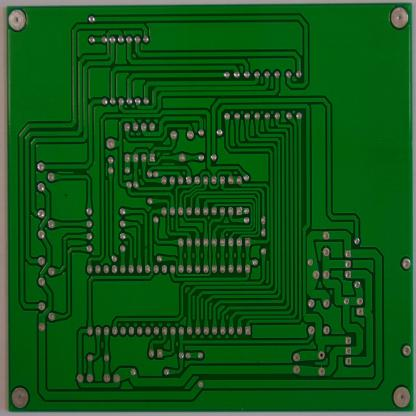spurious_copper: (55, 168, 75, 176), (160, 161, 176, 167), (103, 161, 109, 177), (202, 116, 208, 131), (161, 151, 171, 157)
